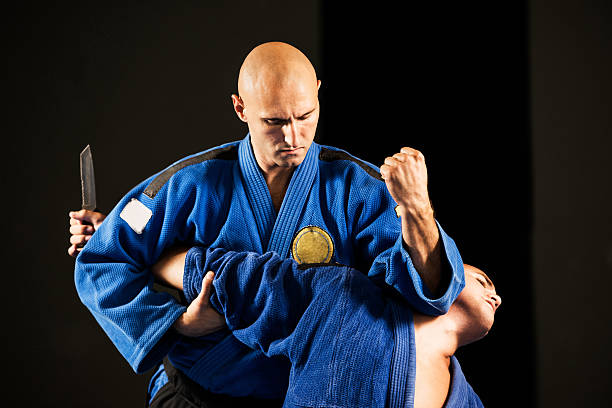knife: (75, 143, 97, 252)
